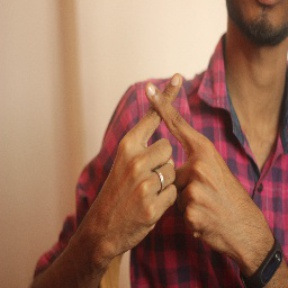X: (115, 68, 221, 182)
